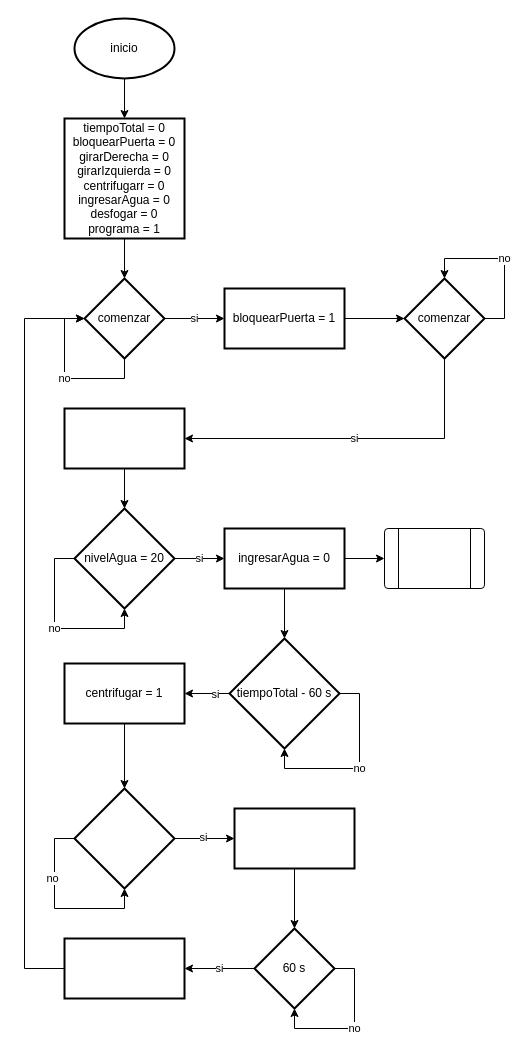
Image size: 530x1054. Some labels were removed from this diagram. Here are the shapes that lost their labels. From the top down, the box of each, then its label:
(63, 407, 185, 469): ingresarAgua = 1
(384, 528, 484, 588): funcionCentrifugado
(73, 787, 175, 889): tiempoTotal = 60
(233, 807, 355, 869): centrifugar = 0 parar = 1 desfogar = 1
(63, 937, 185, 999): desfogar = 0 bloquearPuerta = 0
